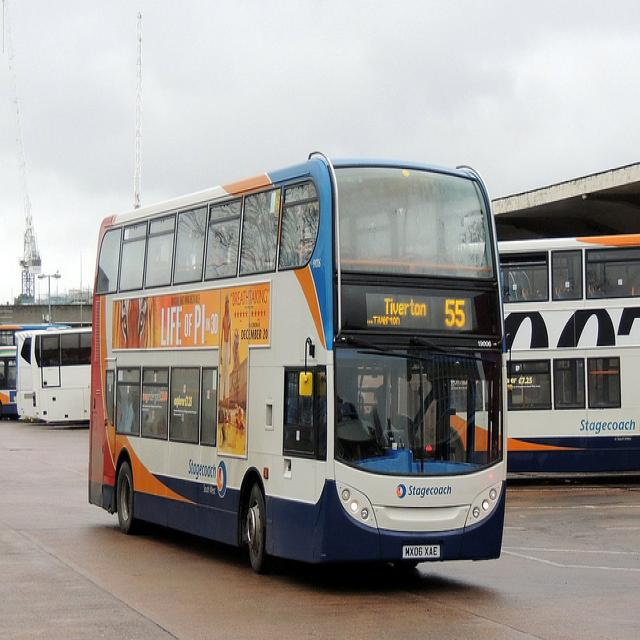Vehicle: (90, 155, 510, 565), (497, 236, 640, 479), (16, 325, 91, 425), (0, 345, 21, 421)
